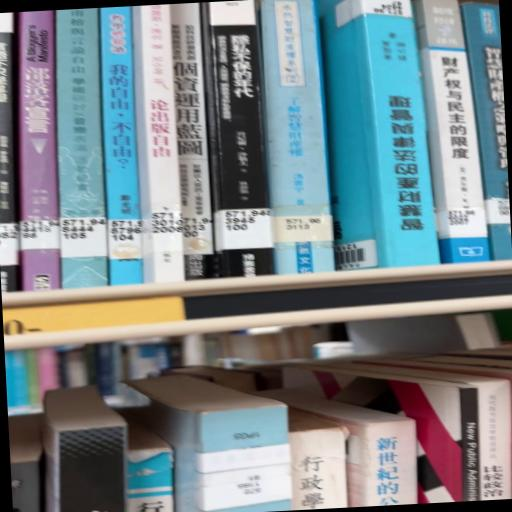reverse: (320, 1, 441, 271)
